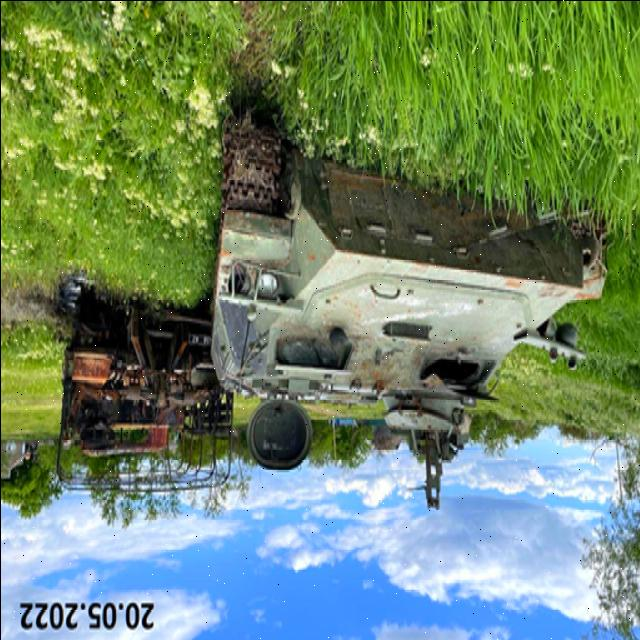APC-IFV: (204, 95, 602, 462)
